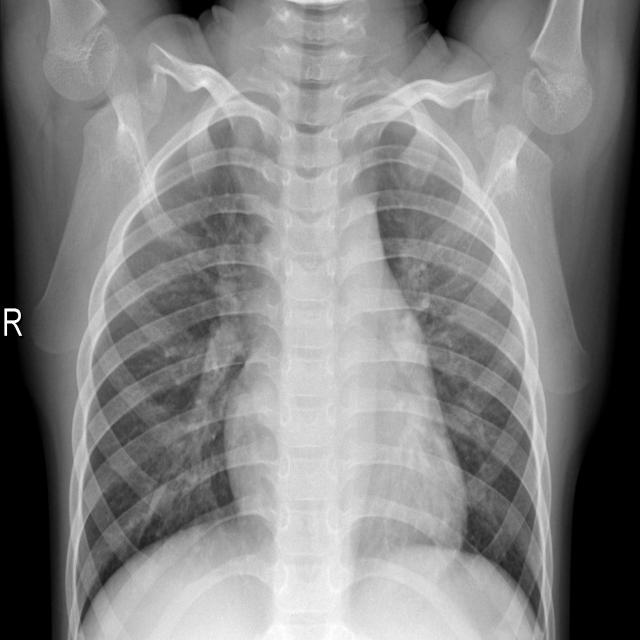no-pneumonia: (68, 106, 279, 637), (355, 86, 552, 637)
